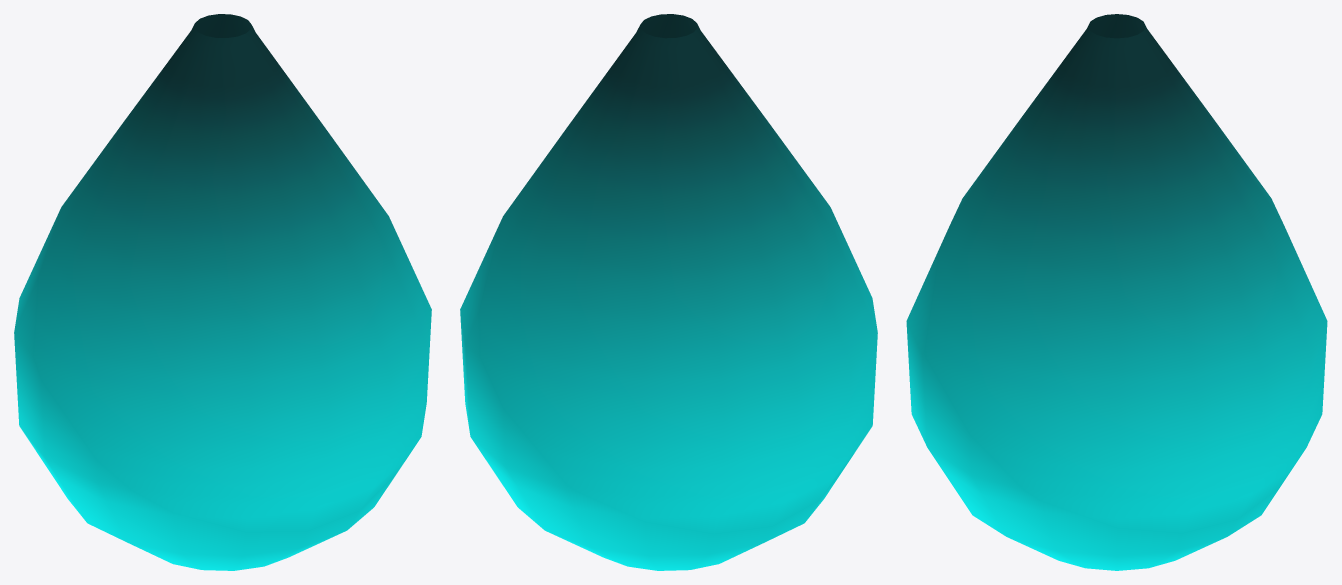
The model's file is WaterDrop_90.glb.
3 renders of one model, left to right at view 1: azimuth 30°, elevation 25°; view 2: azimuth 150°, elevation 25°; view 3: azimuth 270°, elevation 25°, orthographic.
Visible parts, largest first — view 1: WaterDrop_90; view 2: WaterDrop_90; view 3: WaterDrop_90.
Boxes of the visible parts, x1=… form: WaterDrop_90: x1=14, y1=14, x2=431, y2=570; WaterDrop_90: x1=460, y1=14, x2=877, y2=570; WaterDrop_90: x1=906, y1=14, x2=1327, y2=570.
Bounding box in the file's own units: 0.5885 × 0.8014 × 0.5885.
1 material, 1 textured.
